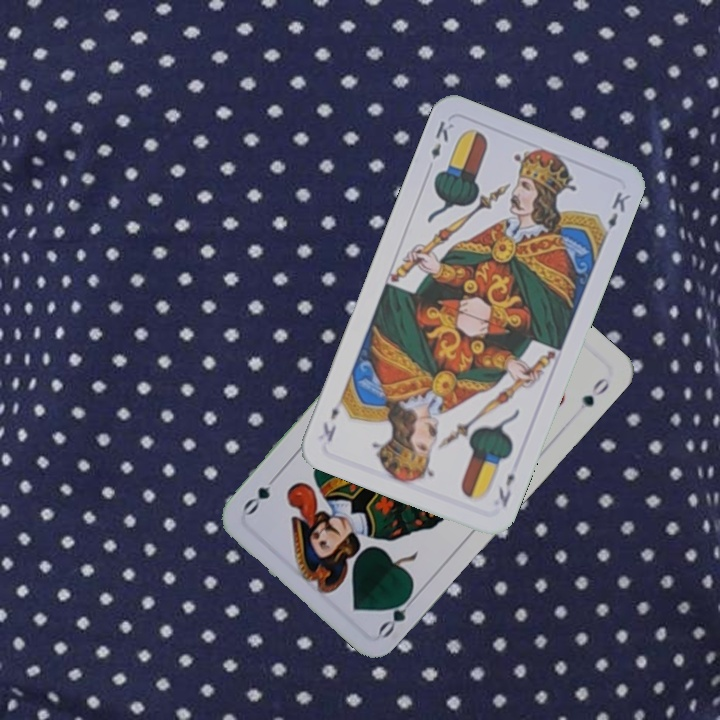EK: (427, 117, 457, 162), (494, 469, 518, 510)
GO: (374, 587, 421, 640)
